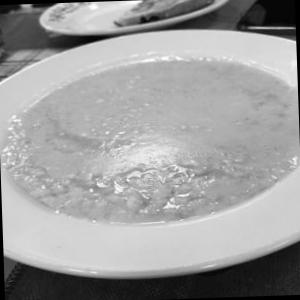porridge: (3, 54, 294, 259)
